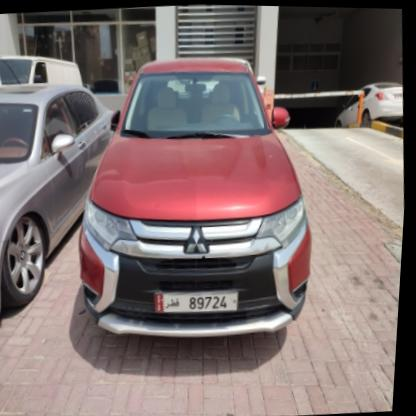np: (154, 280, 246, 321)
